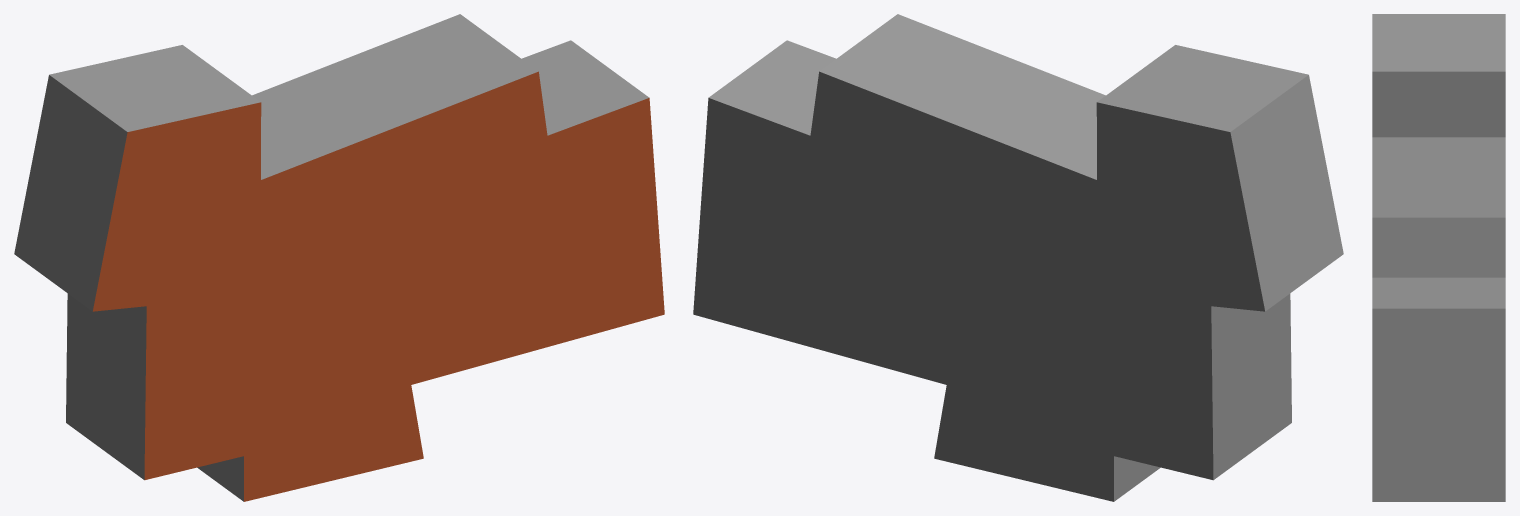
File: construction_4643_assumed_A_Casa_h6m.obj
3 views of the same model, side by side, from view 1: azimuth 30°, elevation 25°; view 2: azimuth 150°, elevation 25°; view 3: azimuth 270°, elevation 25° (orthographic). The views are drawn at different scales.
Visible parts, largest first — view 1: construction_4643_assumed_A_Casa; view 2: construction_4643_assumed_A_Casa; view 3: construction_4643_assumed_A_Casa.
Part boxes in pixels (x1,y1,x2,y2): construction_4643_assumed_A_Casa: [14, 14, 664, 501]; construction_4643_assumed_A_Casa: [693, 14, 1343, 501]; construction_4643_assumed_A_Casa: [1372, 14, 1505, 501].
Bounding box in the file's own units: 25.23 × 16.8 × 6.
